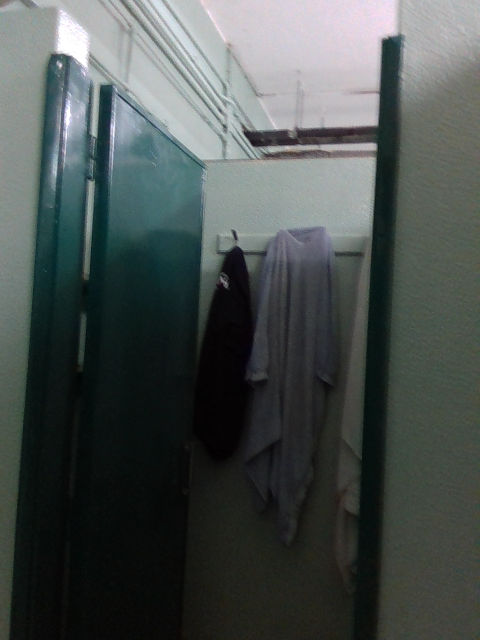open: (5, 47, 205, 639)
